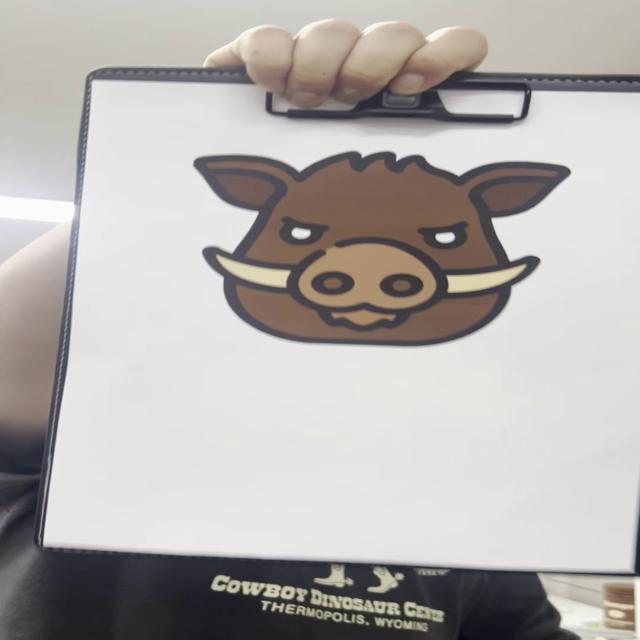animal: (185, 148, 580, 350)
